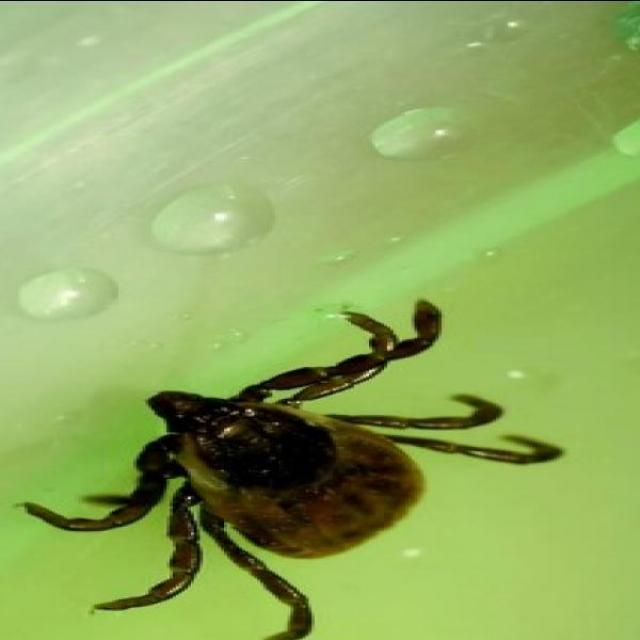Rhipicephalus Sanguineus-F: (19, 298, 565, 640)
